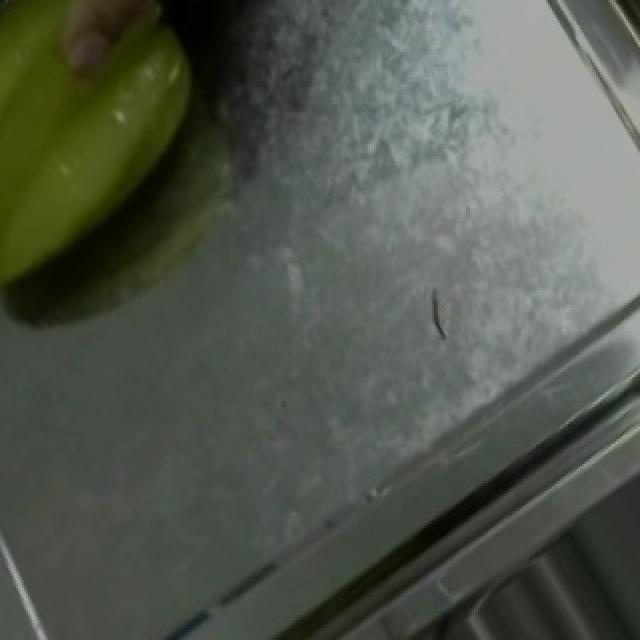fruit: (0, 0, 220, 315)
